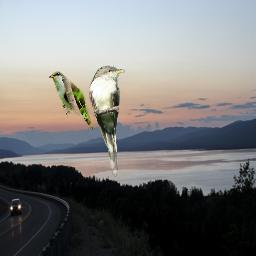Cuckoo: (89, 65, 125, 177), (47, 71, 96, 130)
